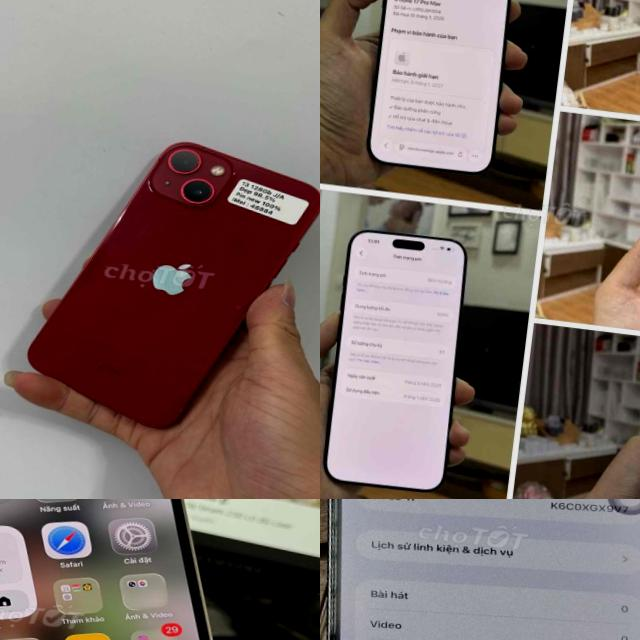gen_12_13: (15, 125, 320, 445)
gen_14: (320, 499, 640, 640), (0, 499, 308, 640)
gen_17: (320, 226, 479, 499), (357, 0, 533, 182)
